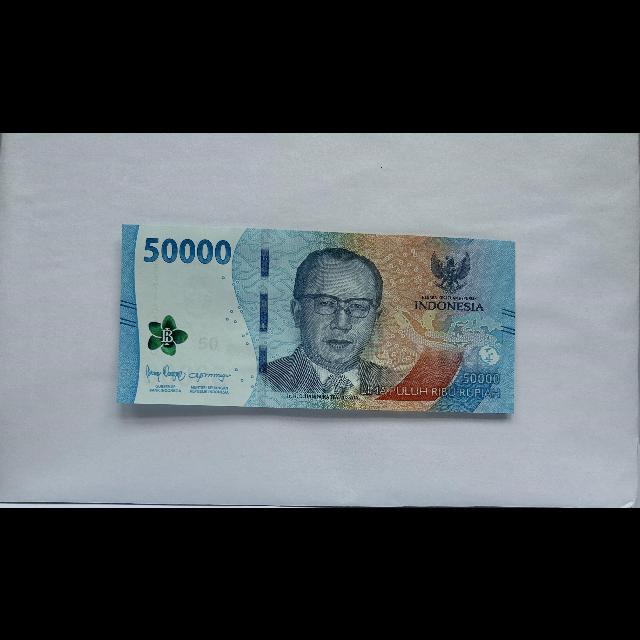Asli-50k: (111, 220, 523, 423)
Tinta-Asli-50k: (148, 313, 189, 356)
